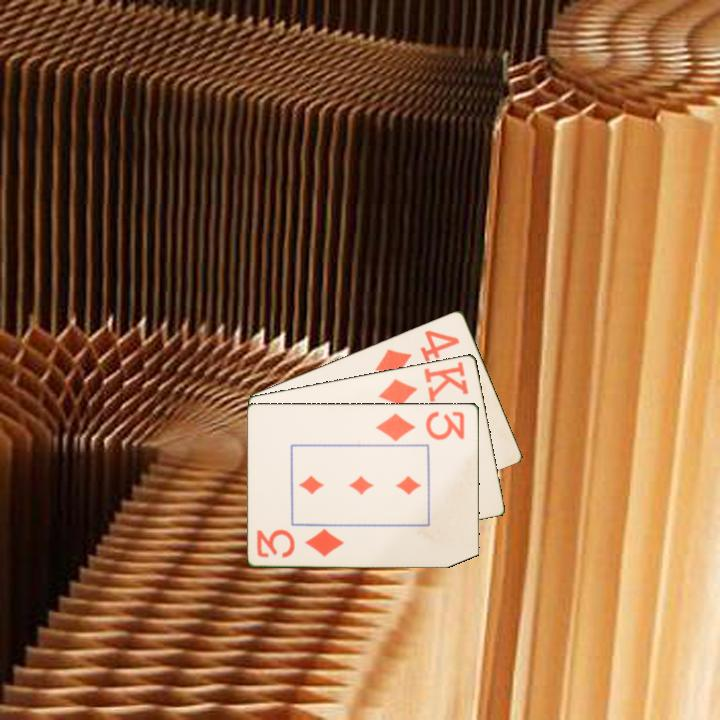3d: (373, 407, 468, 444), (254, 525, 347, 560)
4d: (371, 326, 463, 378)
Kd: (375, 358, 472, 409)
